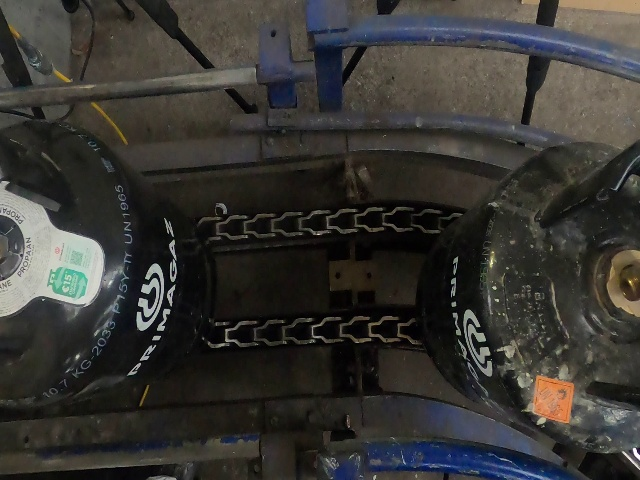gas_bottle: (0, 2, 637, 480)
